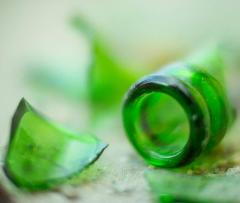glass: (2, 43, 240, 189)
